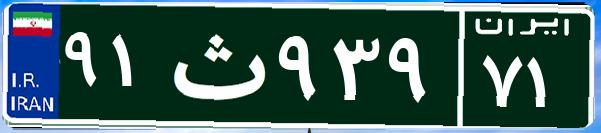1: (110, 28, 158, 105), (525, 38, 570, 115)
3: (330, 28, 385, 110)
7: (475, 38, 525, 113)
9: (385, 28, 445, 110), (273, 28, 330, 110), (57, 26, 110, 107)
ث: (158, 15, 273, 115)
